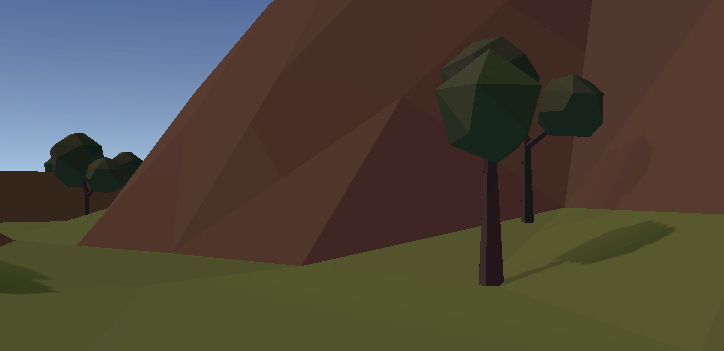tree: (439, 32, 610, 224), (431, 50, 544, 289), (49, 135, 126, 216)
